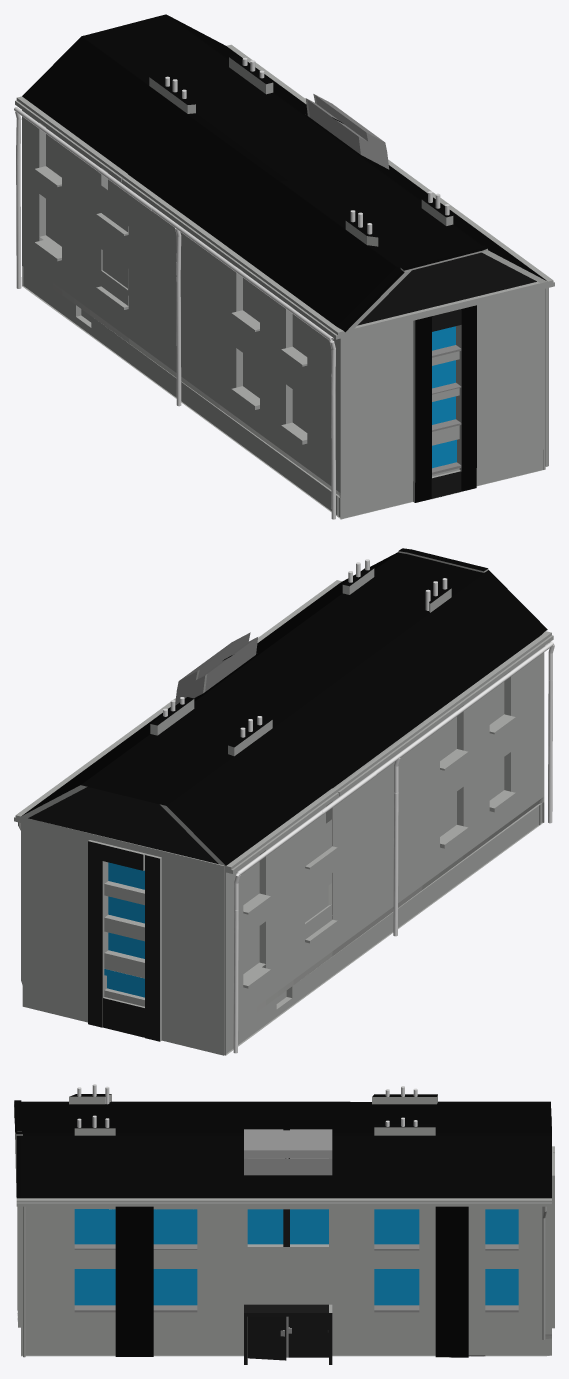
The model's file is Dom Blok mieszkalny.fbx.
3 views of the same model, one above another, from view 1: azimuth 30°, elevation 25°; view 2: azimuth 150°, elevation 25°; view 3: azimuth 270°, elevation 25° (orthographic). The views are drawn at different scales.
Parts seen in each view (by area): view 1: Cube, Cylinder.013, Cylinder.017, Cylinder.016, Cylinder.012; view 2: Cube, Cylinder.013, Cylinder.012, Cylinder.017, Cylinder.016; view 3: Cube.
Part boxes in pixels (bbox=[...]): Cube: bbox=[15, 14, 554, 519]; Cylinder.013: bbox=[14, 107, 333, 341]; Cylinder.017: bbox=[175, 228, 181, 406]; Cylinder.016: bbox=[329, 341, 335, 519]; Cylinder.012: bbox=[15, 111, 21, 288]; Cube: bbox=[14, 548, 553, 1055]; Cylinder.013: bbox=[236, 641, 553, 875]; Cylinder.012: bbox=[233, 875, 240, 1053]; Cylinder.017: bbox=[393, 758, 400, 936]; Cylinder.016: bbox=[548, 644, 554, 823]; Cube: bbox=[14, 1094, 554, 1364].
Size of the model in its own units: 2396 by 2491 by 5699.
